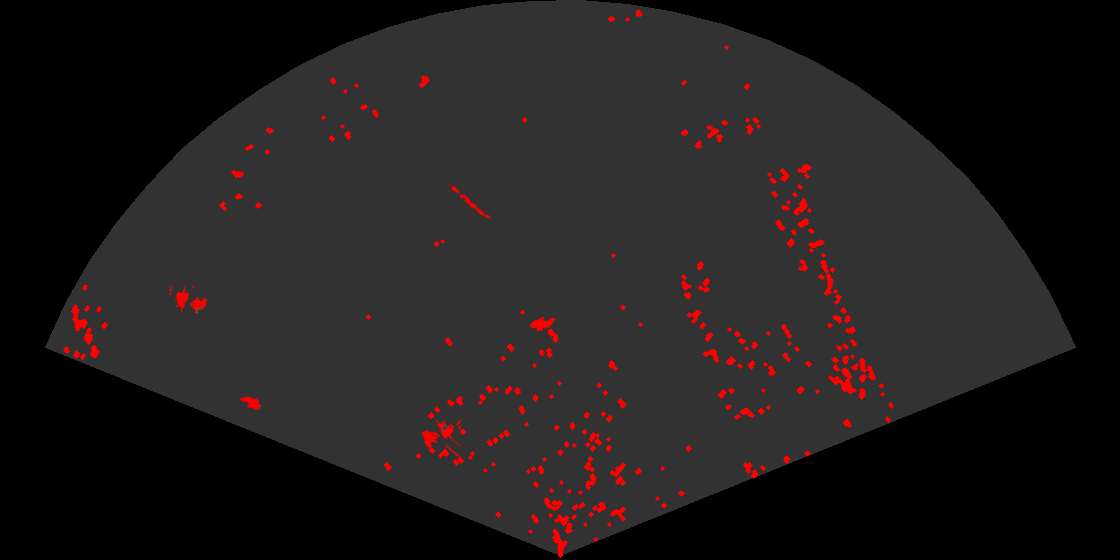AUV: (528, 315, 558, 333), (238, 395, 262, 412)
cage: (420, 418, 461, 458), (169, 286, 209, 315)
chain: (444, 182, 492, 221)
